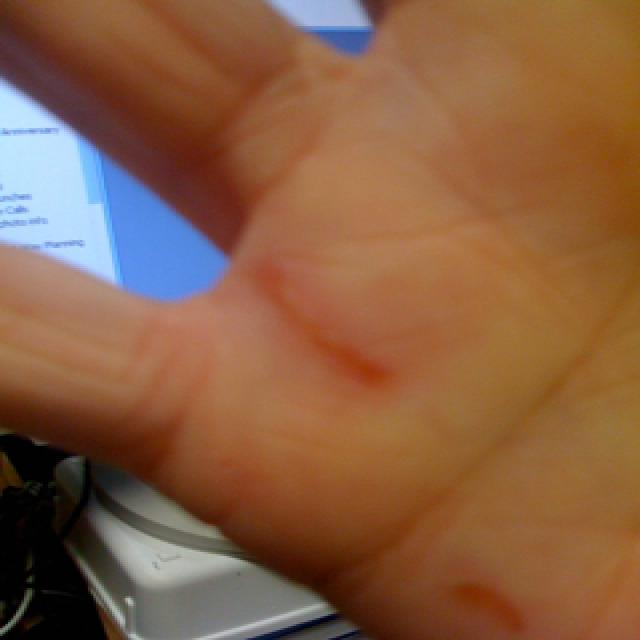Cut: (248, 262, 394, 388), (444, 573, 537, 637)
